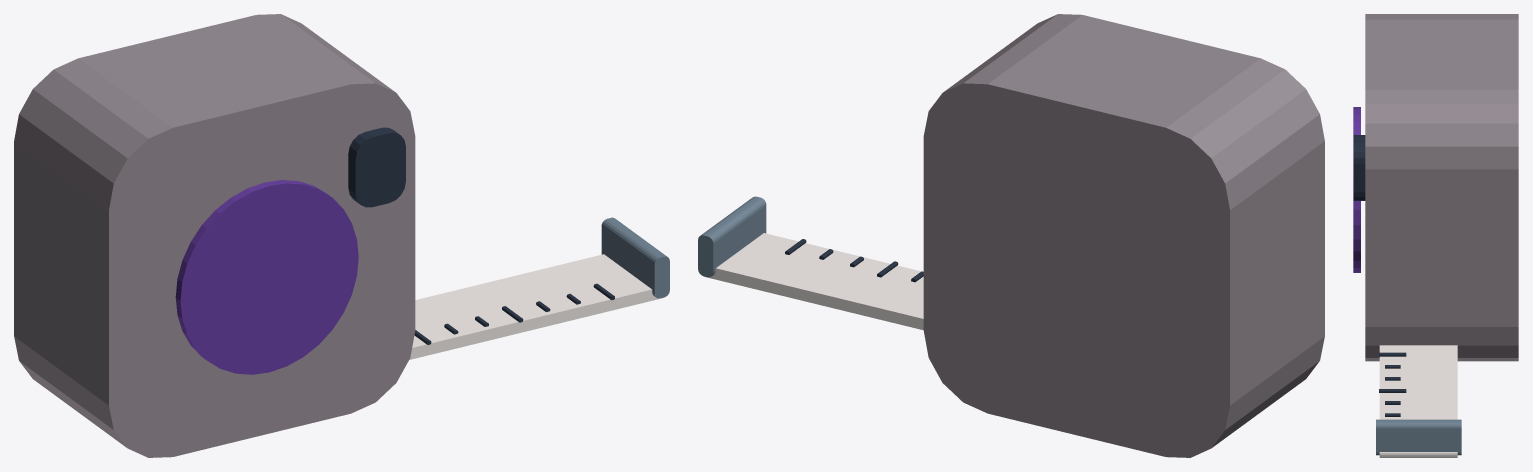
The model's file is taperule.glb.
3 renders of one model, left to right at view 1: azimuth 30°, elevation 25°; view 2: azimuth 150°, elevation 25°; view 3: azimuth 270°, elevation 25°, orthographic. The views are drawn at different scales.
Visible parts, largest first — view 1: housing, case inset, blade, lock button, end hook; view 2: housing, blade, end hook; view 3: housing, blade, end hook, case inset, lock button.
Part boxes in pixels (left/top/right/bottom): housing: left=14, top=14, right=415, bottom=457; case inset: left=175, top=180, right=358, bottom=374; blade: left=409, top=254, right=664, bottom=359; lock button: left=348, top=127, right=405, bottom=207; end hook: left=601, top=217, right=669, bottom=298; housing: left=923, top=14, right=1324, bottom=457; blade: left=703, top=233, right=923, bottom=330; end hook: left=698, top=196, right=766, bottom=277; housing: left=1365, top=14, right=1518, bottom=361; blade: left=1379, top=345, right=1457, bottom=457; end hook: left=1376, top=419, right=1461, bottom=455; case inset: left=1353, top=107, right=1360, bottom=272; lock button: left=1353, top=135, right=1365, bottom=200.
Size of the model in its own units: 2.04 by 1.13 by 0.637.
